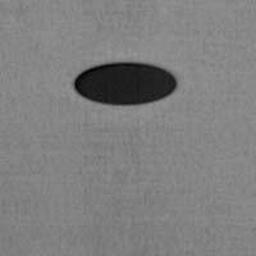Punching: (72, 63, 177, 108)
